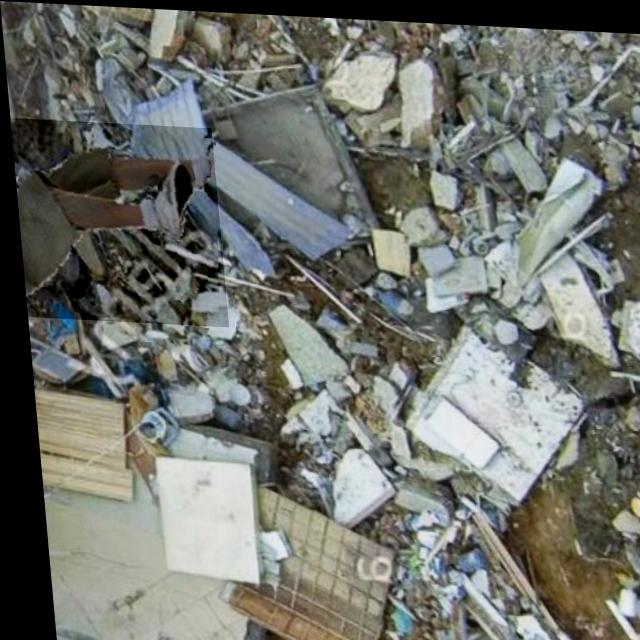Person in Rubble: (8, 117, 223, 324)
